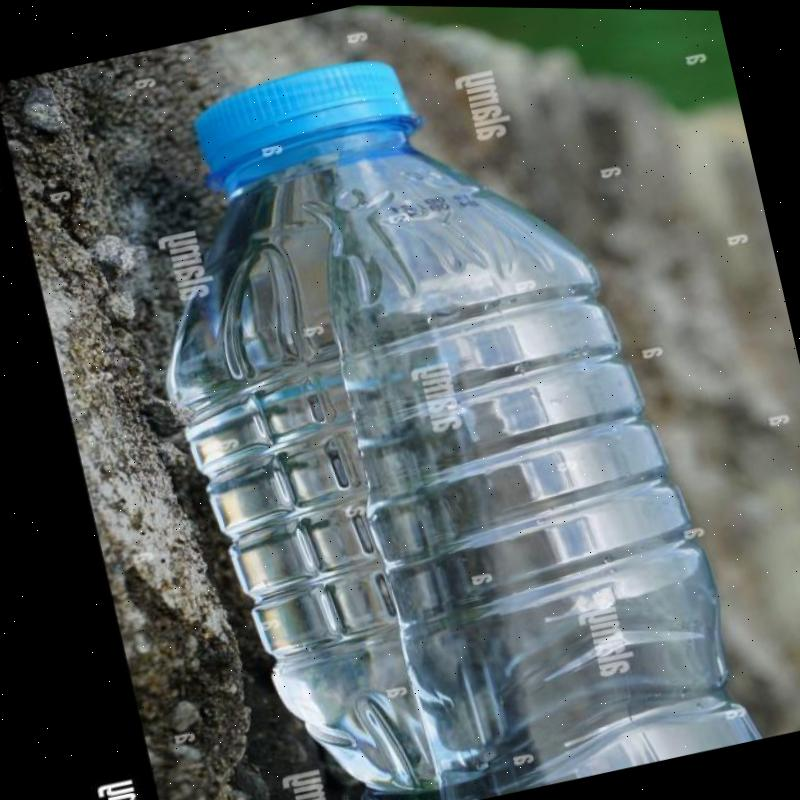botella: (98, 1, 764, 800)
